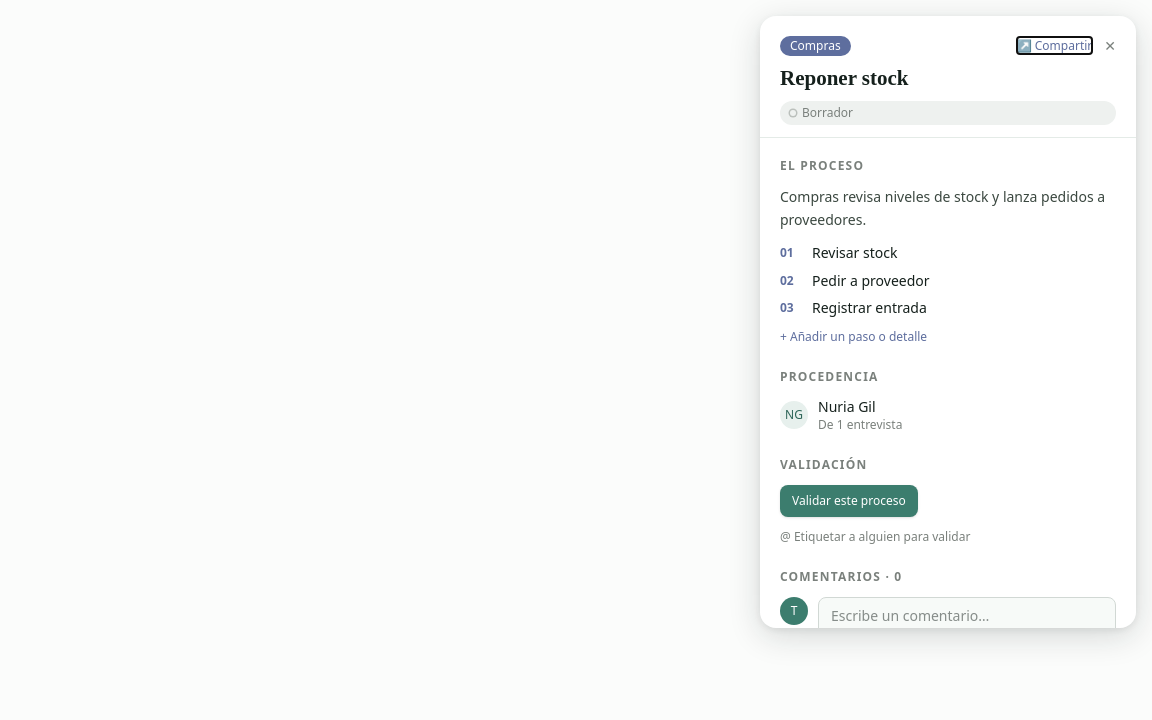
SharePopover › opens share popover when 'Compartir' is clicked
Click the button "↗ Compartir" at (1054, 46), box [1017,38,1092,54]
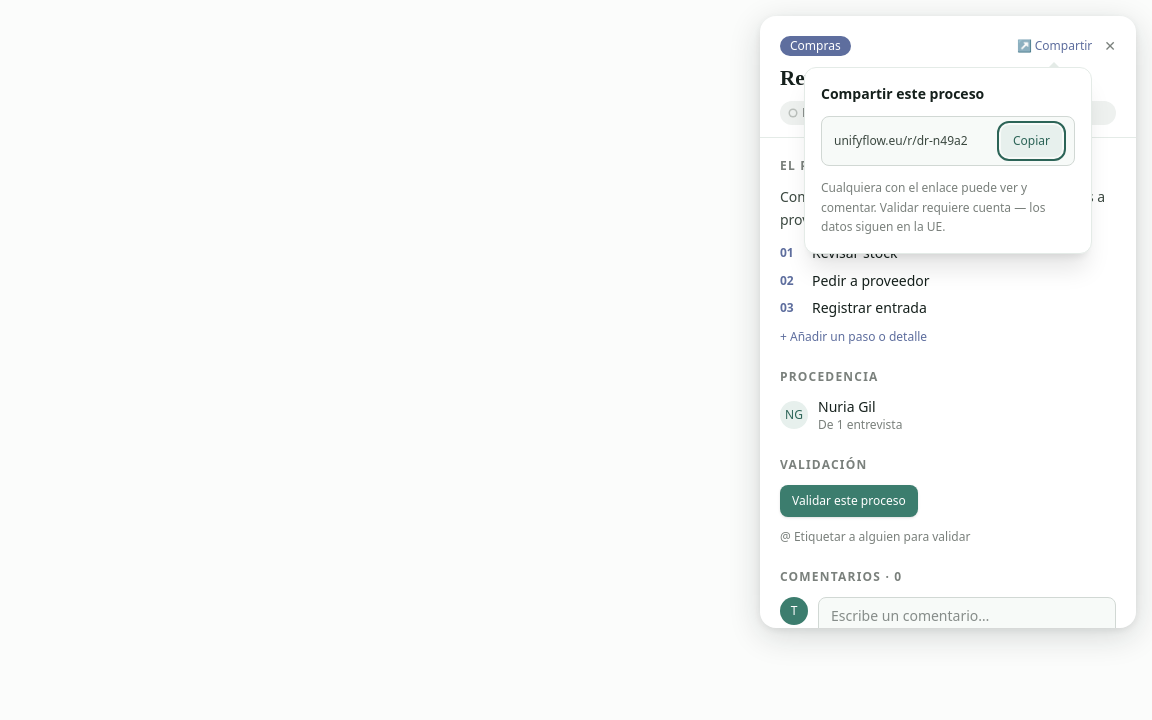
Now the text "Compartir este proceso" is shown, box [821,84,984,103]
